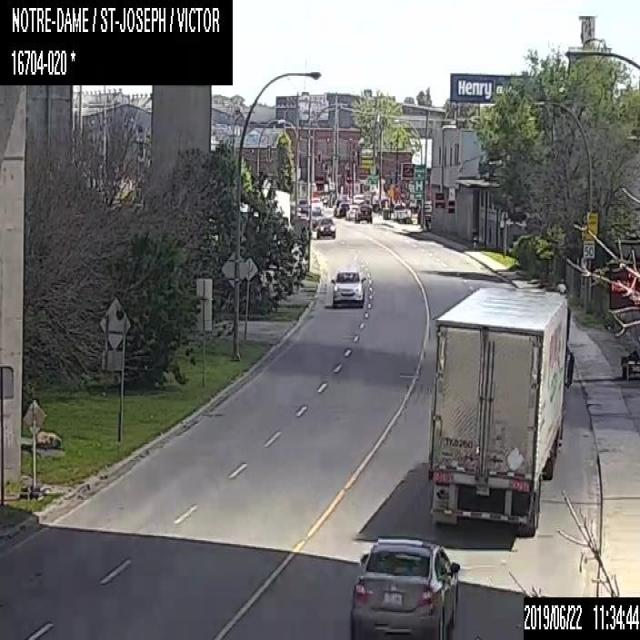construction: (609, 233, 639, 382)
vehicle: (428, 288, 573, 536), (348, 540, 461, 639), (330, 269, 365, 306), (316, 217, 336, 238), (354, 203, 372, 223), (392, 202, 410, 220), (311, 209, 323, 229), (345, 204, 357, 219), (336, 202, 348, 216)
